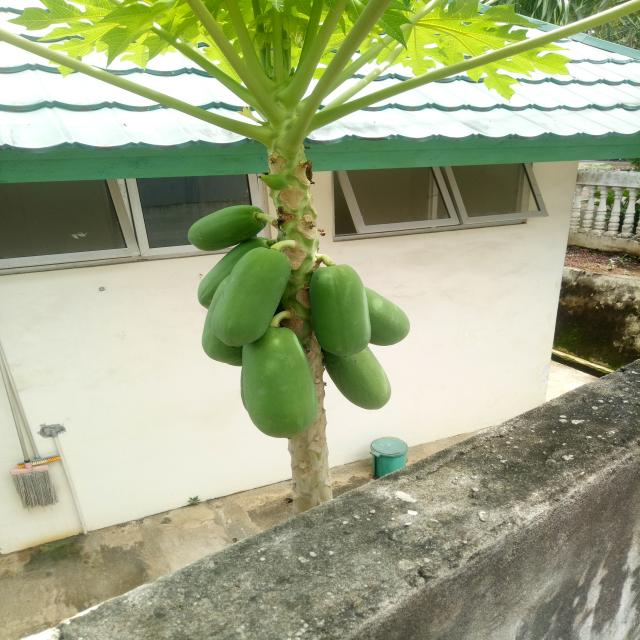Pepaya unrippen: (242, 334, 313, 442), (212, 248, 291, 345), (309, 267, 371, 361), (338, 355, 396, 415), (179, 206, 277, 241), (368, 295, 409, 349)
